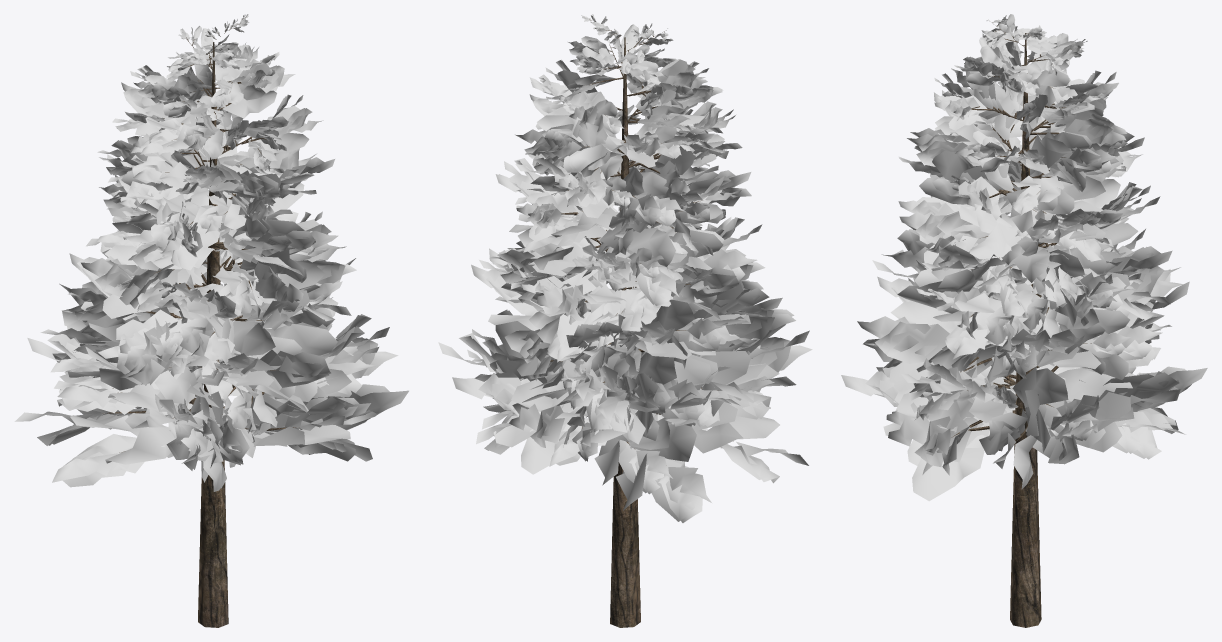
File: Tree1.fbx
3 views of the same model, side by side, from view 1: azimuth 30°, elevation 25°; view 2: azimuth 150°, elevation 25°; view 3: azimuth 270°, elevation 25° (orthographic).
Parts seen in each view (by area): view 1: Tree1; view 2: Tree1; view 3: Tree1.
Part boxes in pixels (x1,y1,x2,y2): Tree1: [14, 14, 408, 627]; Tree1: [438, 14, 812, 627]; Tree1: [841, 14, 1207, 627].
Size of the model in its own units: 7.39 by 12.33 by 6.79.
